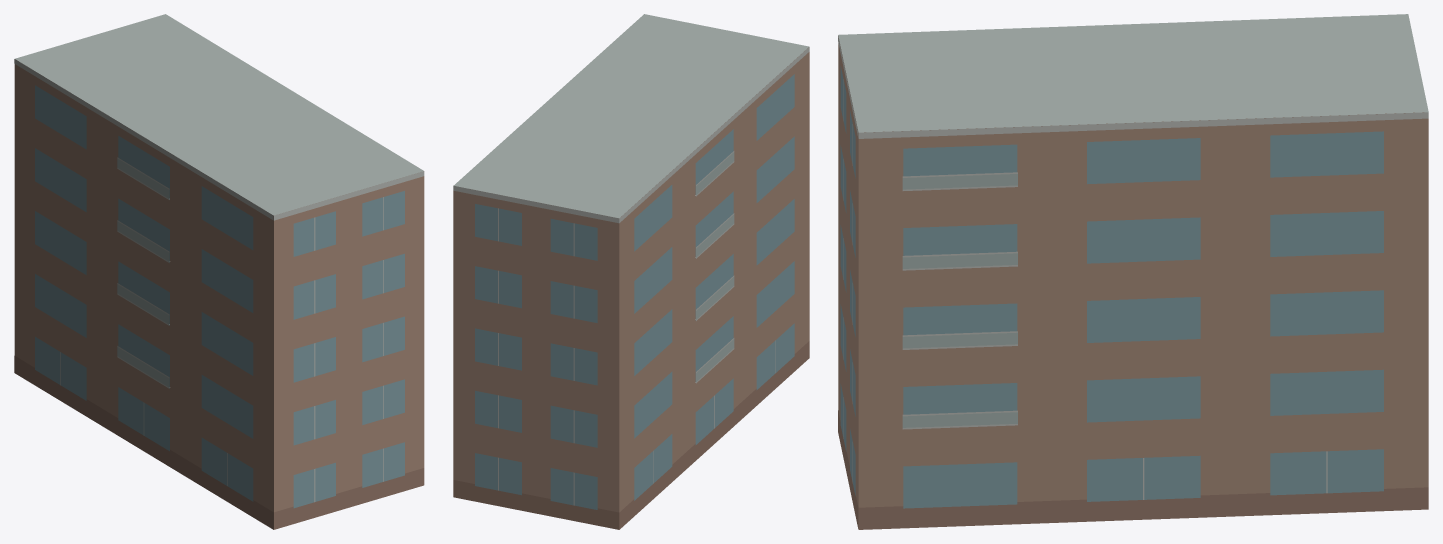
The model's file is survey-upis-32699916.glb.
The picture shows the model from 3 angles, left to right: view 1: azimuth 30°, elevation 25°; view 2: azimuth 150°, elevation 25°; view 3: azimuth 270°, elevation 25°; orthographic projection. The views are drawn at different scales.
Parts seen in each view (by area): view 1: survey-upis-32699916.tmp; view 2: survey-upis-32699916.tmp; view 3: survey-upis-32699916.tmp.
Part boxes in pixels (bbox=[...]): survey-upis-32699916.tmp: bbox=[14, 14, 424, 529]; survey-upis-32699916.tmp: bbox=[453, 14, 809, 529]; survey-upis-32699916.tmp: bbox=[838, 14, 1428, 529].
Size of the model in its own units: 9.78 by 15.25 by 20.56.
